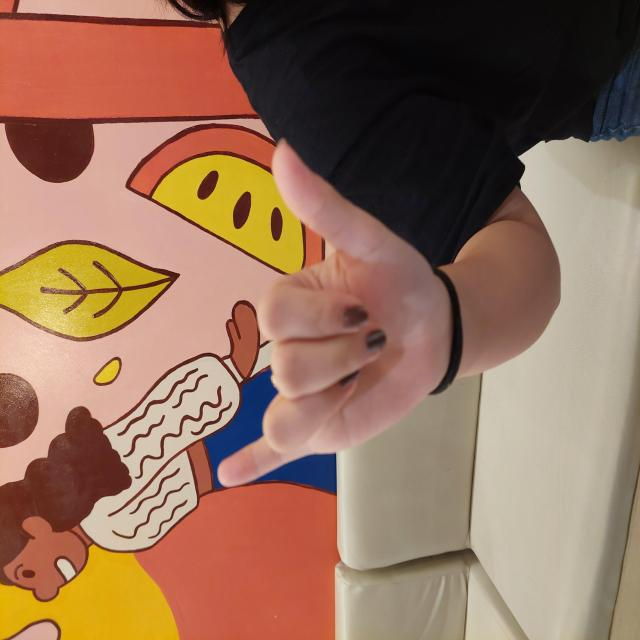Y: (177, 116, 470, 535)
